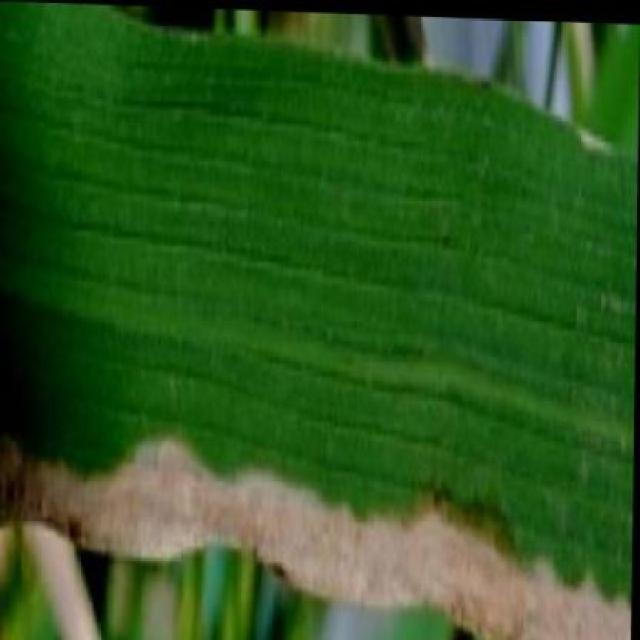Brown_Spot: (0, 289, 635, 602)
